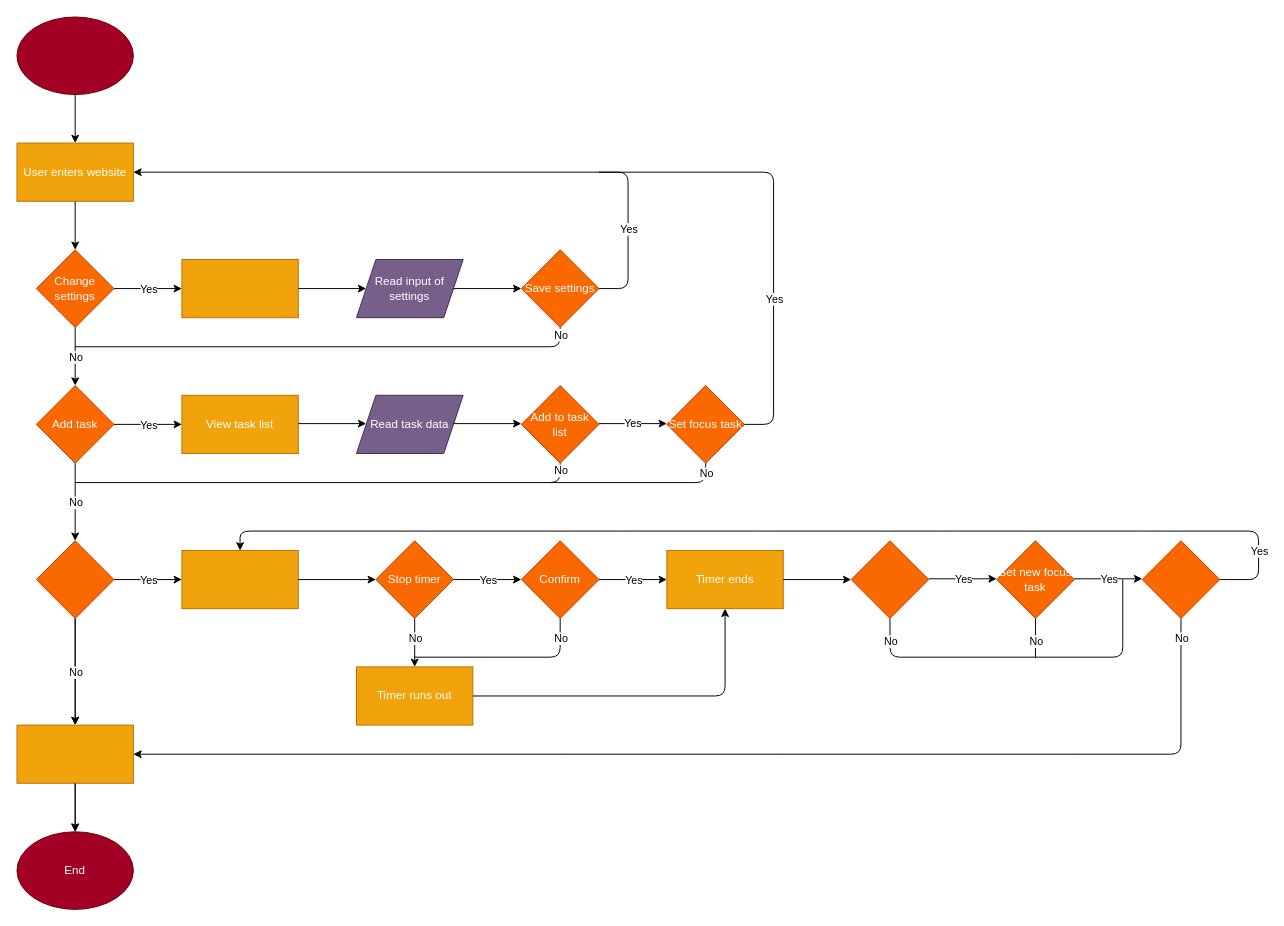
Image size: 1284x926. Some labels were removed from this diagram. The shapes that lost their labels are listed below. From the top down, each one's centre as x and y in pixels, then its label:
the point at 74,55: Start
the point at 239,288: View settings page
the point at 74,579: Begin timer
the point at 239,579: Timer begins
the point at 889,579: Mark focus task as done
the point at 1180,579: Start new timer
the point at 74,753: Leave website
